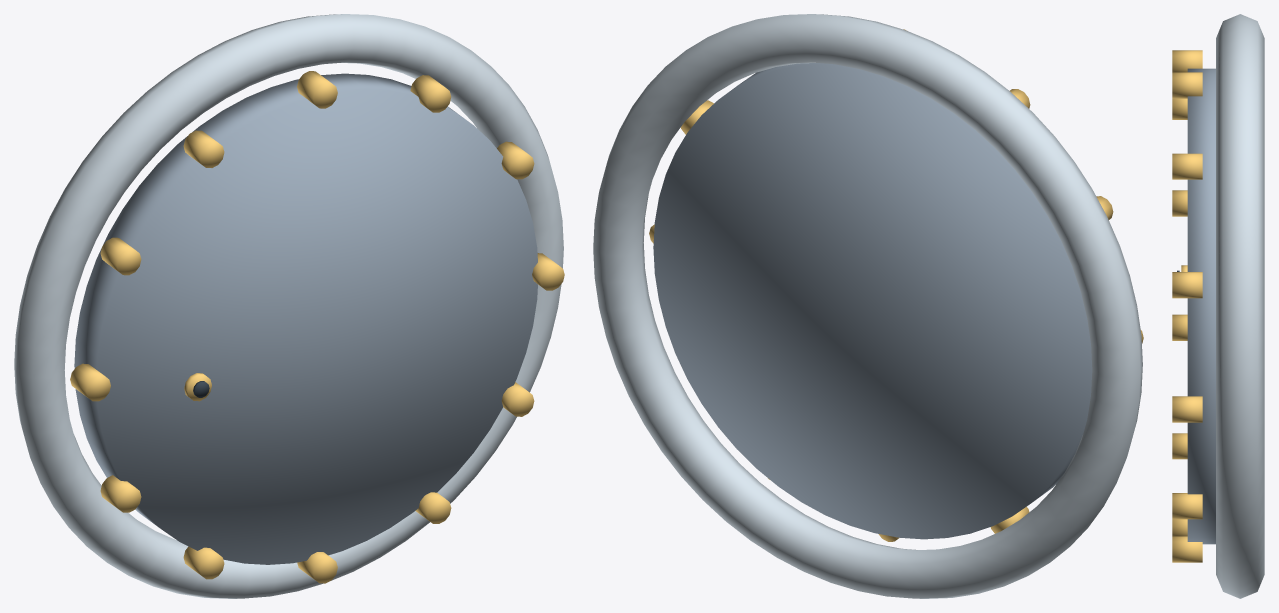
The model's file is 09_L88_AtmosphereAirlockIsolationHatch.glb.
3 renders of one model, left to right at view 1: azimuth 30°, elevation 25°; view 2: azimuth 150°, elevation 25°; view 3: azimuth 270°, elevation 25°, orthographic. The views are drawn at different scales.
Visible parts, largest first — view 1: L87_AtmosphereAirlockIsolatio_Part_0001, L87_AtmosphereAirlockIsolatio_Part_0000, L87_AtmosphereAirlockIsolatio_Part_0002; view 2: L87_AtmosphereAirlockIsolatio_Part_0001, L87_AtmosphereAirlockIsolatio_Part_0000, L87_AtmosphereAirlockIsolatio_Part_0002; view 3: L87_AtmosphereAirlockIsolatio_Part_0000, L87_AtmosphereAirlockIsolatio_Part_0001, L87_AtmosphereAirlockIsolatio_Part_0002.
Boxes of the visible parts, x1,y1,x2,y2 form: L87_AtmosphereAirlockIsolatio_Part_0001: (74, 73, 537, 564); L87_AtmosphereAirlockIsolatio_Part_0000: (14, 14, 563, 598); L87_AtmosphereAirlockIsolatio_Part_0002: (70, 71, 564, 583); L87_AtmosphereAirlockIsolatio_Part_0001: (653, 63, 1092, 539); L87_AtmosphereAirlockIsolatio_Part_0000: (593, 14, 1142, 598); L87_AtmosphereAirlockIsolatio_Part_0002: (649, 29, 1143, 541); L87_AtmosphereAirlockIsolatio_Part_0000: (1216, 14, 1264, 598); L87_AtmosphereAirlockIsolatio_Part_0001: (1187, 68, 1215, 544); L87_AtmosphereAirlockIsolatio_Part_0002: (1172, 50, 1202, 562).
Bounding box in the file's own units: 2.88 × 2.88 × 0.455.
